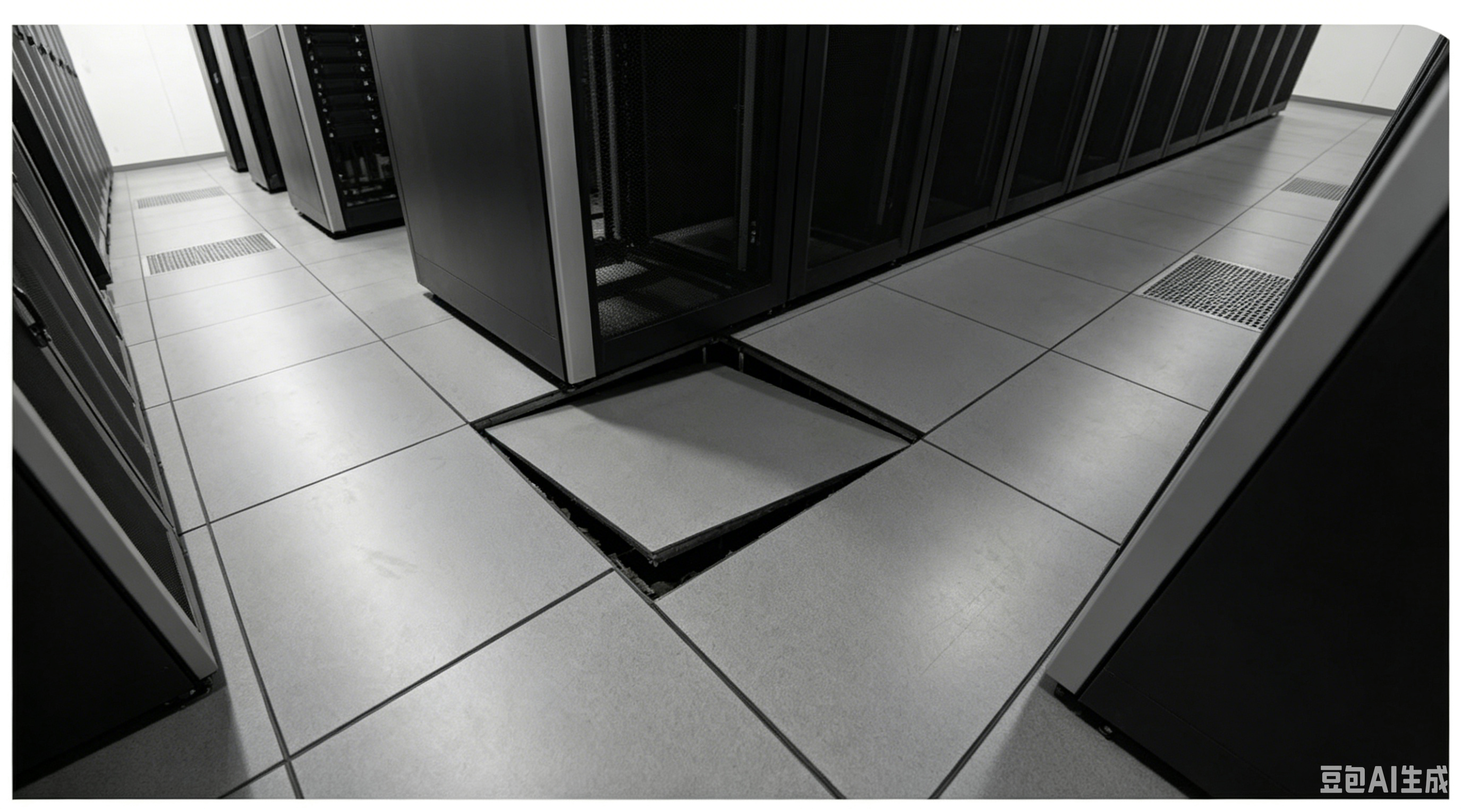floor_defect: (464, 334, 931, 611)
